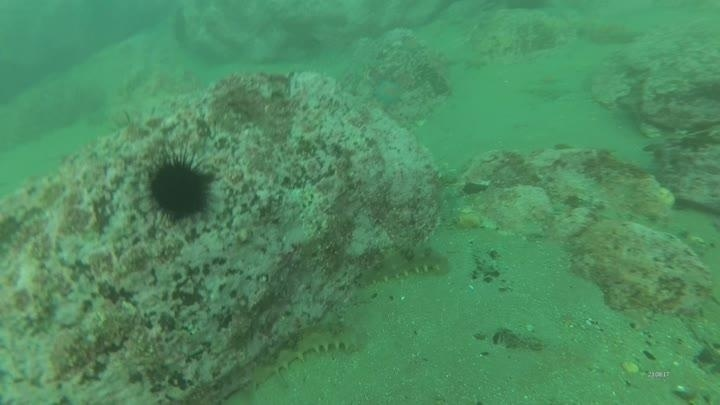echinus: (142, 150, 218, 225)
holothurian: (247, 321, 364, 388), (353, 244, 452, 288), (415, 55, 454, 108)
starfish: (370, 75, 407, 109), (397, 34, 427, 56)
